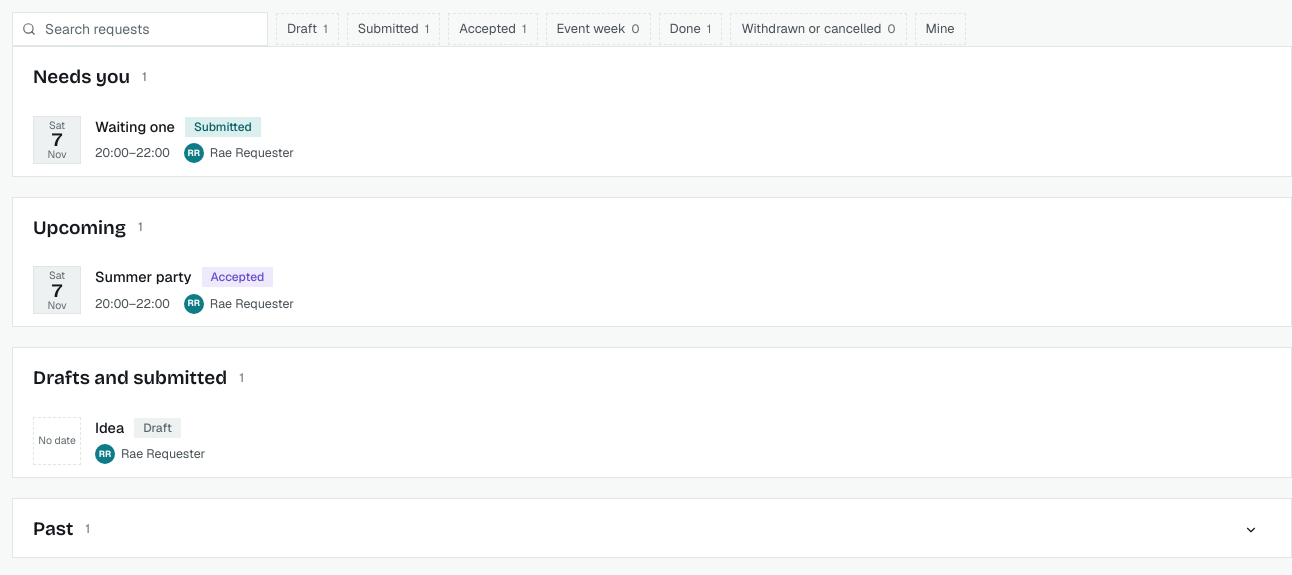
Test: RequestList › filters by title
Type "summer" into the search field named "Search requests by title" at (140, 29), box [12,12,268,46]
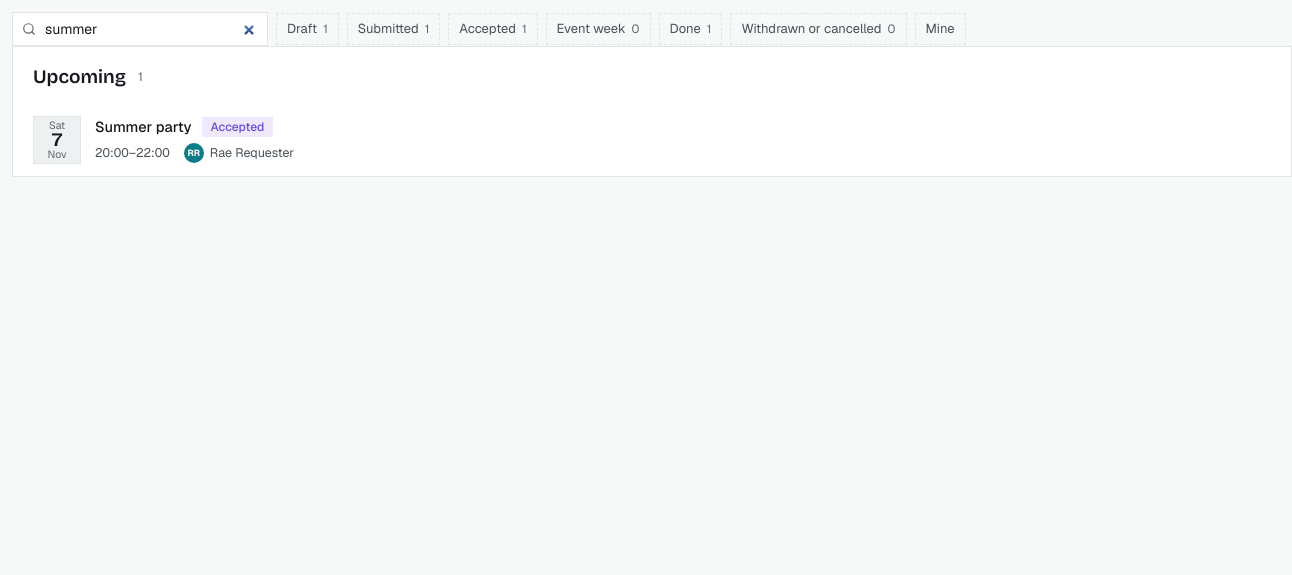
Check: the link "Summer party" is shown, box [95,116,192,137]
Check: the link "Idea" is gone
Check: the link "Waiting one" is gone
